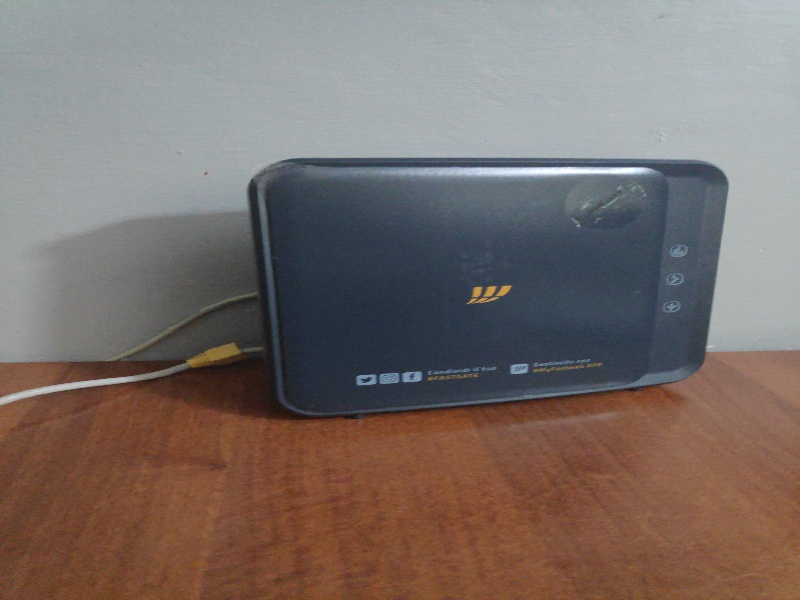router: (246, 155, 731, 424)
